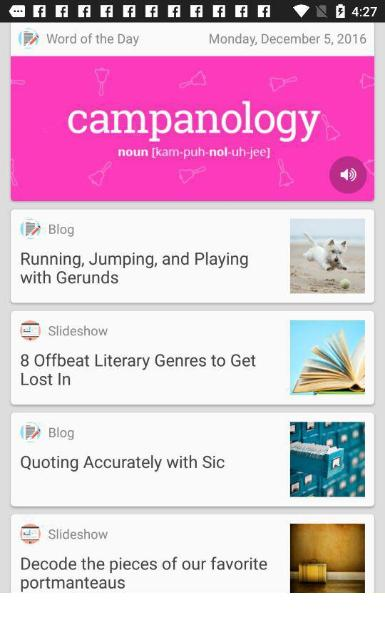Card: (9, 208, 376, 304), (10, 310, 376, 406), (10, 412, 374, 506), (10, 516, 374, 592)
Image: (11, 56, 374, 200), (290, 422, 364, 496), (290, 320, 364, 394), (290, 219, 364, 293), (290, 524, 364, 592), (20, 524, 40, 544), (20, 422, 40, 442), (20, 320, 40, 340), (20, 219, 40, 239), (20, 28, 38, 48)
ImageButton: (328, 156, 366, 192)
List: (0, 23, 385, 592)
Text: (21, 556, 267, 592), (21, 352, 255, 386), (20, 252, 248, 284), (21, 454, 225, 472), (210, 34, 366, 46), (47, 32, 139, 46), (49, 324, 108, 336), (49, 528, 108, 538), (48, 426, 74, 440), (48, 224, 74, 236)
UpperTaskBar: (0, 0, 384, 22)
